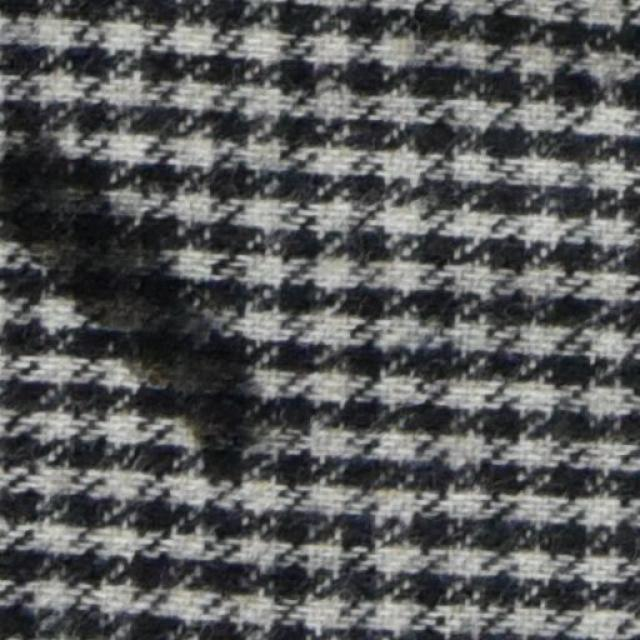Stain: (0, 106, 262, 495)
